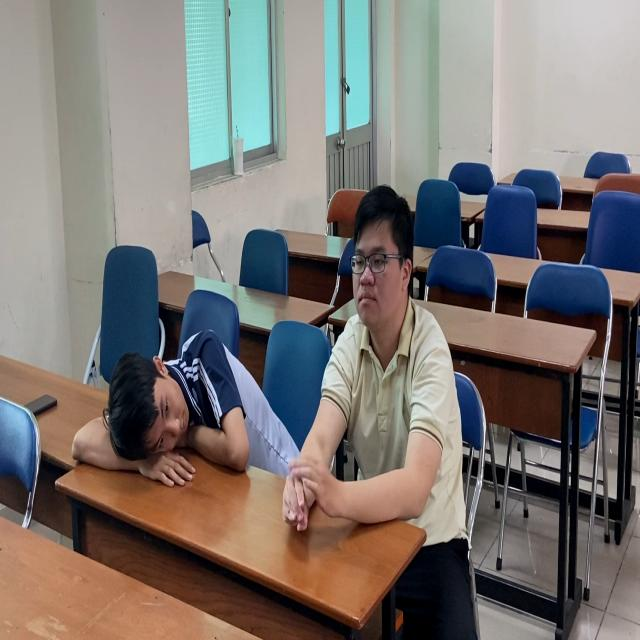sleep: (69, 323, 291, 501)
